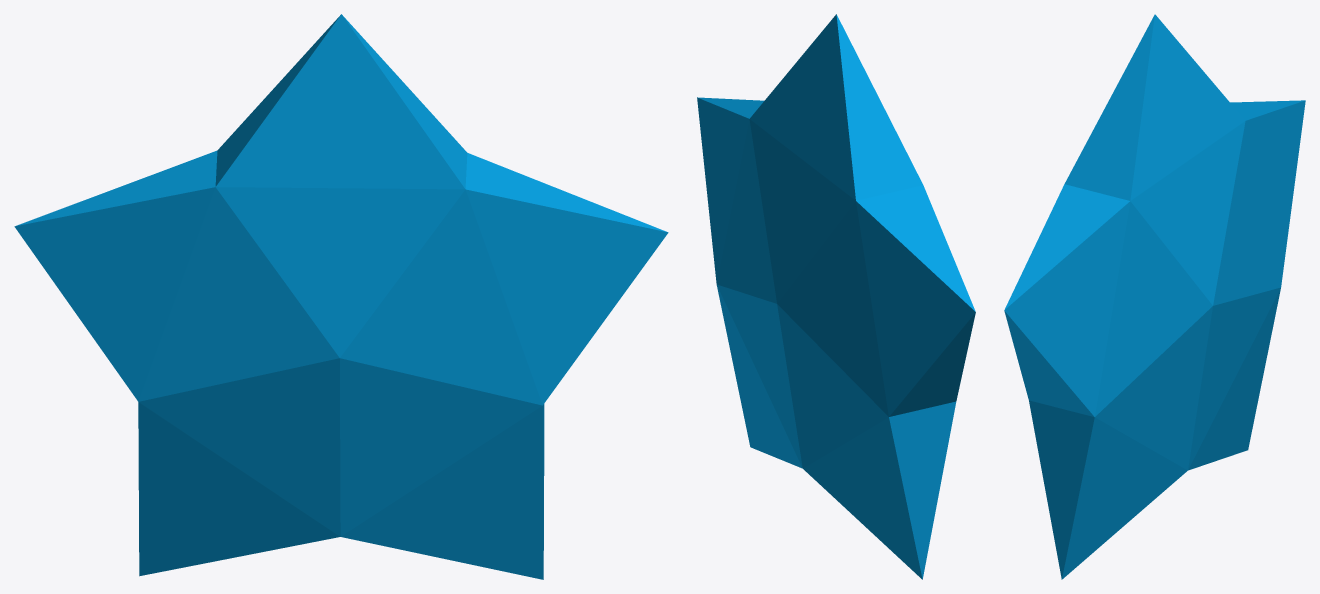
The model's file is звезда 3.fbx.
3 renders of one model, left to right at view 1: azimuth 30°, elevation 25°; view 2: azimuth 150°, elevation 25°; view 3: azimuth 270°, elevation 25°, orthographic. The views are drawn at different scales.
Visible parts, largest first — view 1: Икосфера; view 2: Икосфера; view 3: Икосфера.
Part boxes in pixels (x1,y1,x2,y2): Икосфера: [14, 14, 668, 579]; Икосфера: [697, 14, 975, 579]; Икосфера: [1004, 14, 1305, 579].
Bounding box in the file's own units: 138 × 154 × 83.92.
